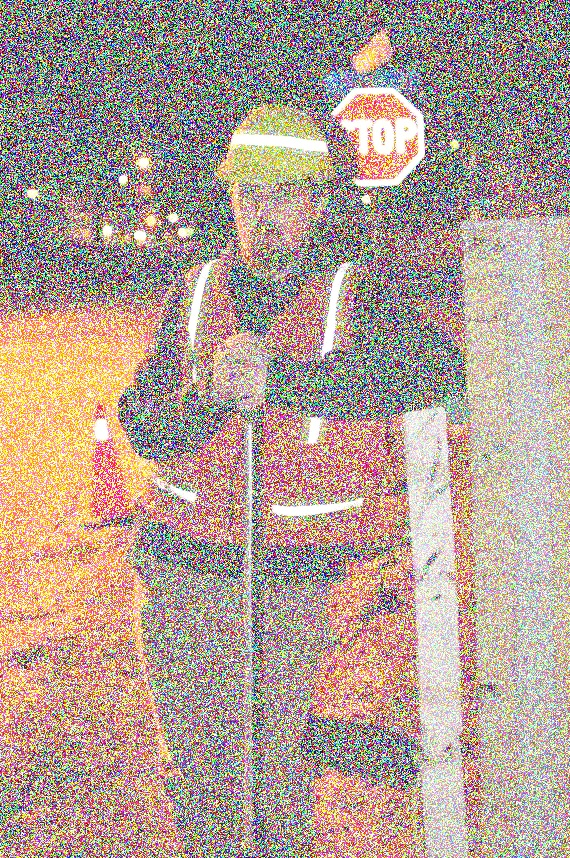helmet: (211, 97, 339, 268)
vest: (111, 257, 407, 550)
